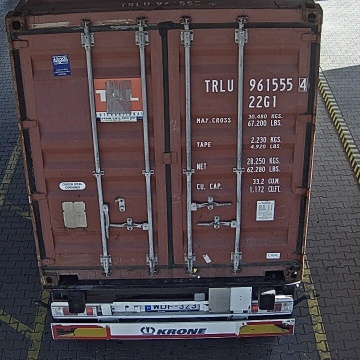serial_id: (205, 77, 308, 91)
